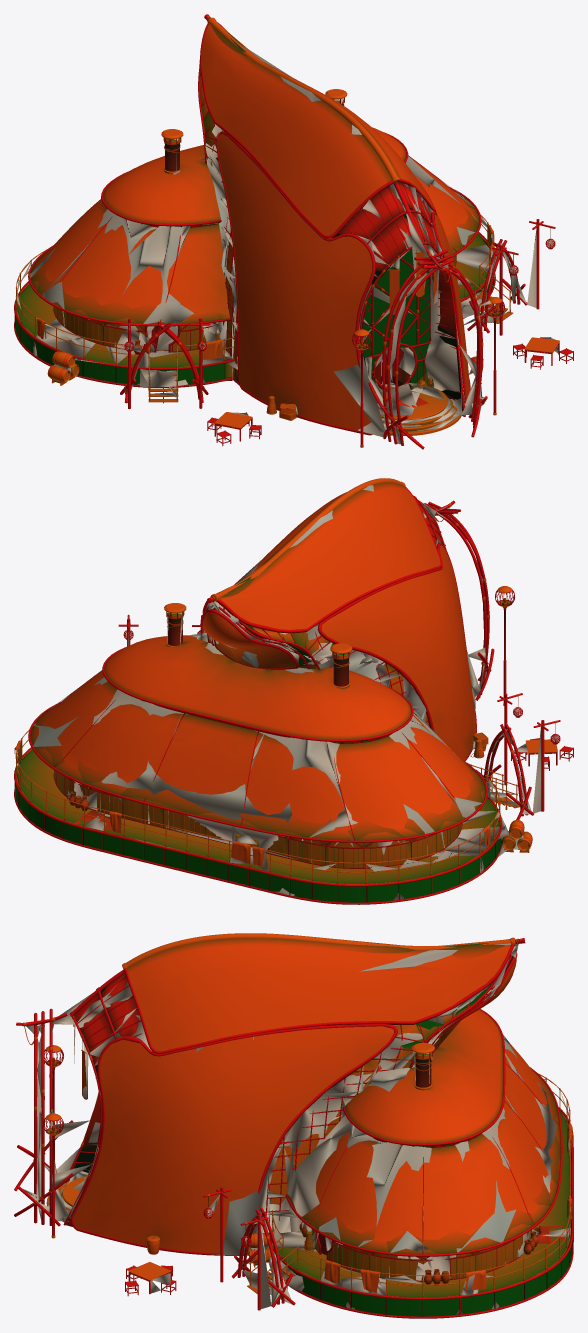
File: KB3D_GAE_BldgMD_D.glb
3 views of the same model, one above another, from view 1: azimuth 30°, elevation 25°; view 2: azimuth 150°, elevation 25°; view 3: azimuth 270°, elevation 25° (orthographic). The views are drawn at different scales.
Visible parts, largest first — view 1: L0, L2, L1; view 2: L0, L2, L1; view 3: L0, L2, L1.
Part boxes in pixels (x1=…): L0: x1=14, y1=14, x2=573, y2=449; L2: x1=16, y1=34, x2=558, y2=444; L1: x1=15, y1=15, x2=569, y2=447; L0: x1=14, y1=478, x2=573, y2=904; L2: x1=15, y1=485, x2=557, y2=900; L1: x1=14, y1=502, x2=572, y2=901; L0: x1=14, y1=933, x2=573, y2=1318; L2: x1=23, y1=939, x2=571, y2=1314; L1: x1=15, y1=939, x2=572, y2=1316.
Size of the model in its own units: 26.87 by 14.54 by 26.94.
